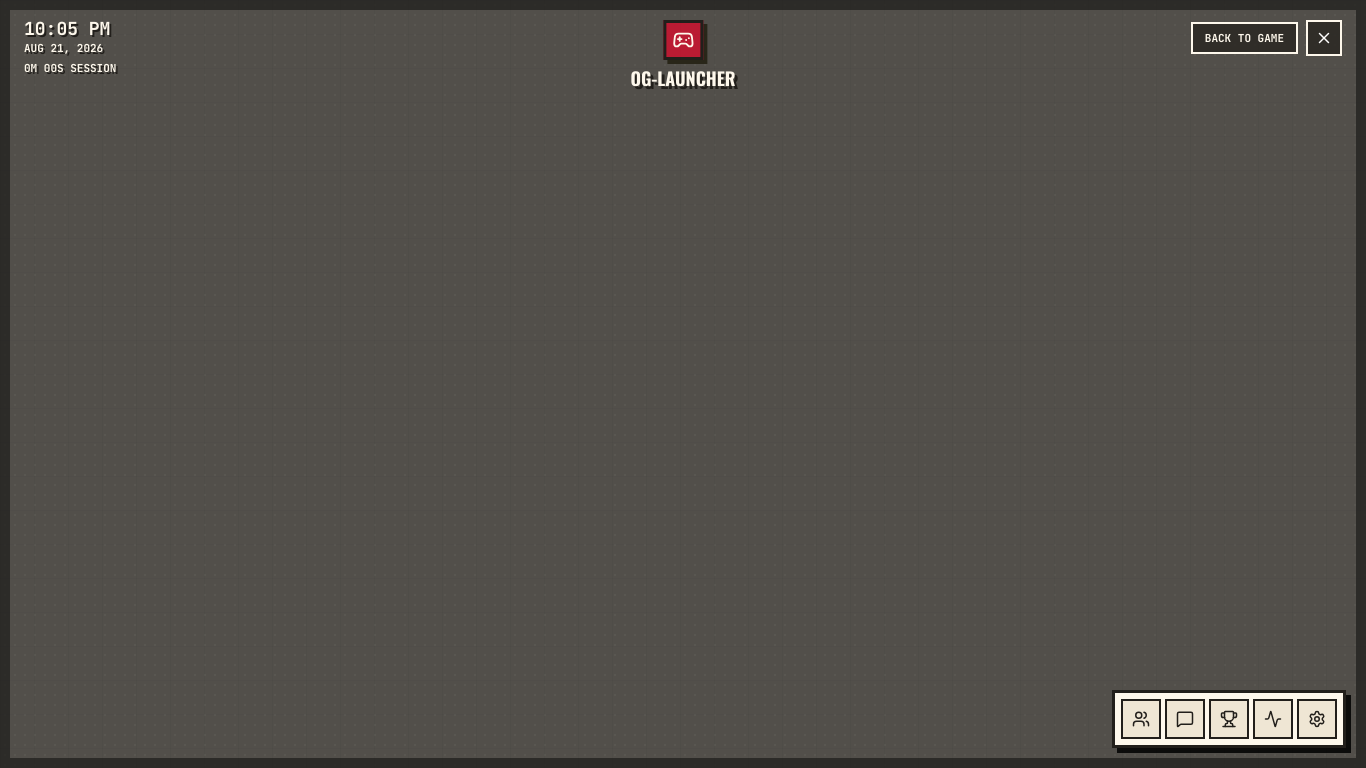
Test: routed page smoke coverage › loads existing messages when an overlay group chat opens
Step 1. Click the button named "Chat" → (1185, 719), box [1165, 699, 1205, 739]
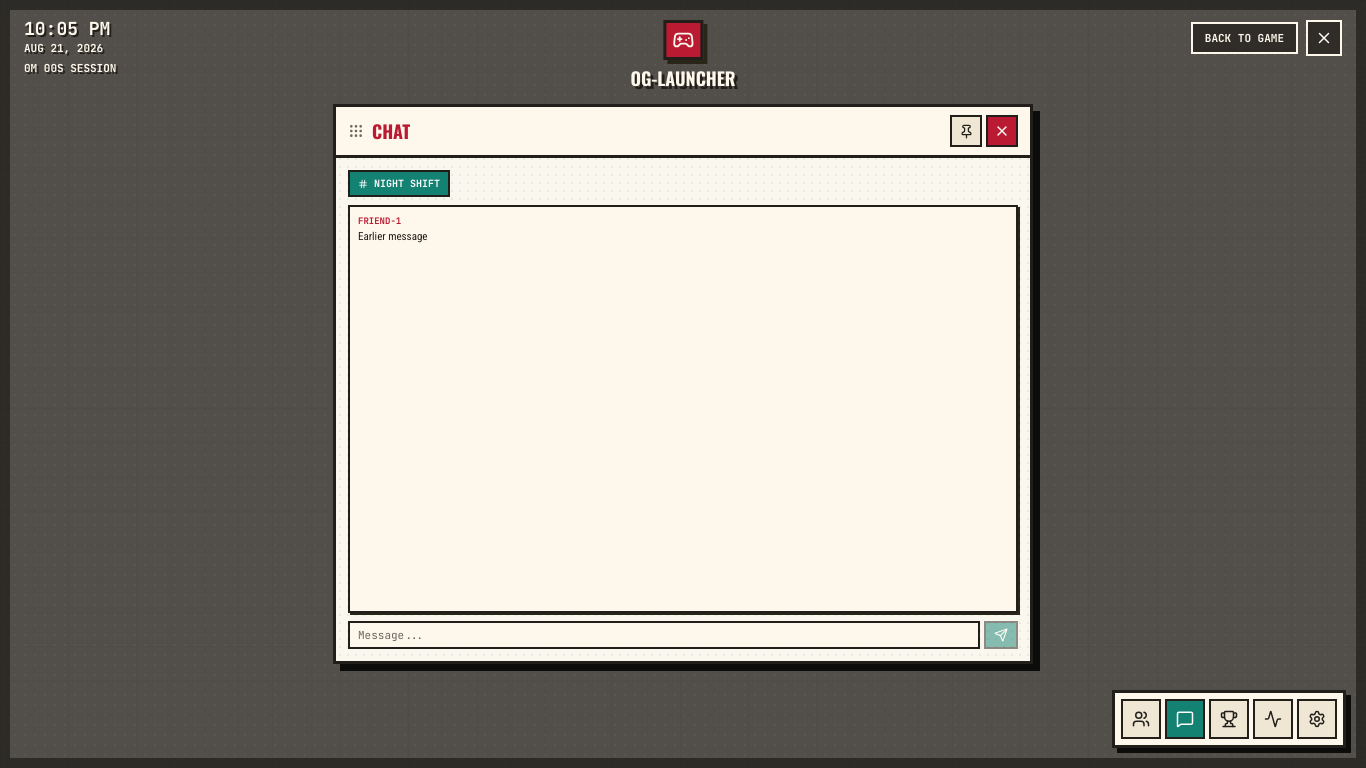
Check: the text "Earlier message" is shown, box [358, 230, 428, 242]
